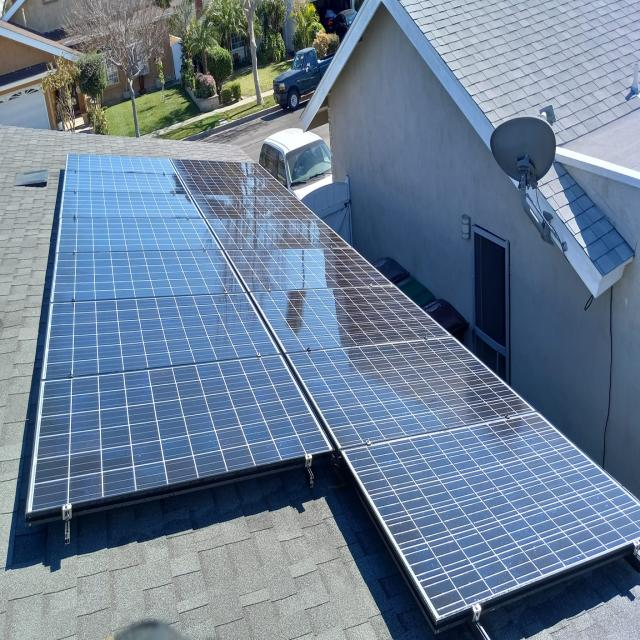clean-solar-panel: (26, 153, 640, 629)
